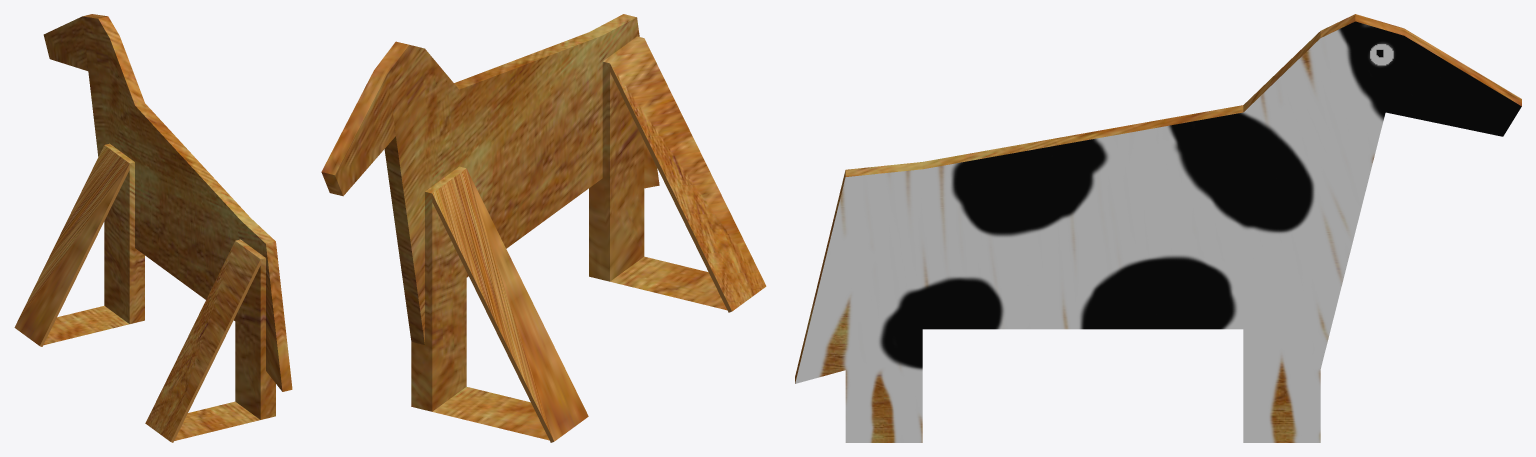
File: Cow.fbx
The picture shows the model from 3 angles, left to right: view 1: azimuth 30°, elevation 25°; view 2: azimuth 150°, elevation 25°; view 3: azimuth 270°, elevation 25°; orthographic projection. The views are drawn at different scales.
Visible parts, largest first — view 1: FakeCow; view 2: FakeCow; view 3: FakeCow.
Boxes of the visible parts, x1,y1,x2,y2 form: FakeCow: (14, 14, 292, 442); FakeCow: (321, 14, 766, 442); FakeCow: (795, 14, 1521, 442).
Bounding box in the file's own units: 269 × 68.39 × 173.
